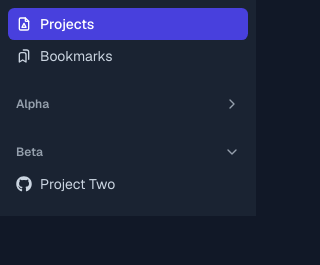
Test: SidebarProjectsNav › restores open/closed organization groups from sessionStorage
Click the button "Alpha".
click(128, 104)  # box [8,88,248,120]
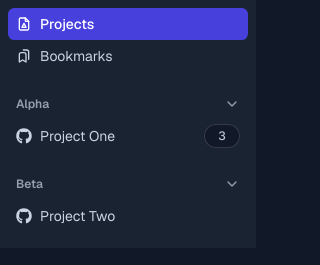
Check: the button "Alpha" is expanded, box [8,88,248,120]
